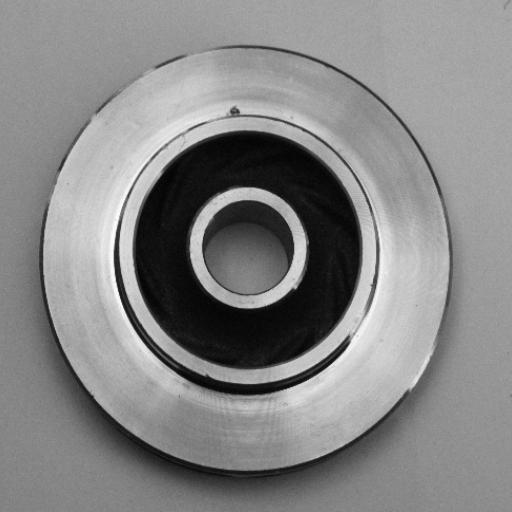crack: (223, 98, 249, 125)
unpolished_casting: (38, 41, 454, 481)
